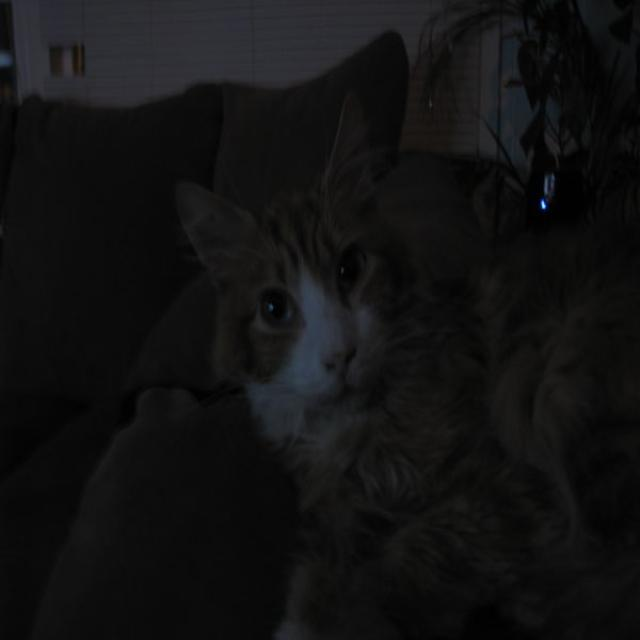Cat: (150, 84, 640, 640)
